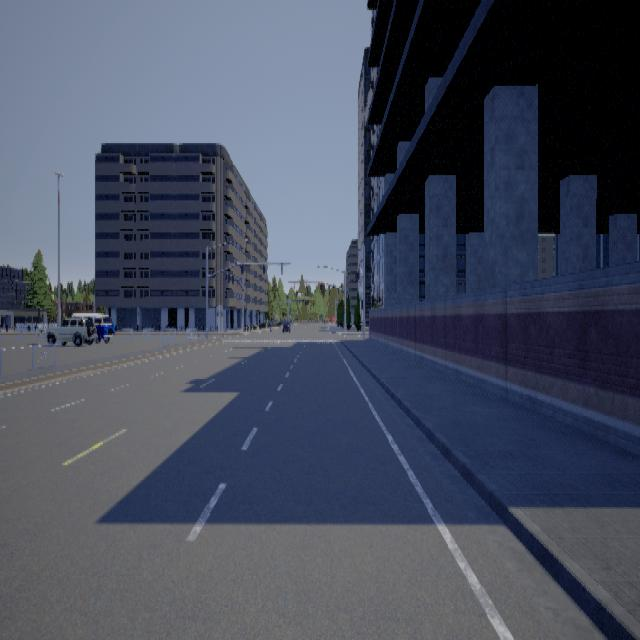vehicle: (44, 312, 114, 345)
